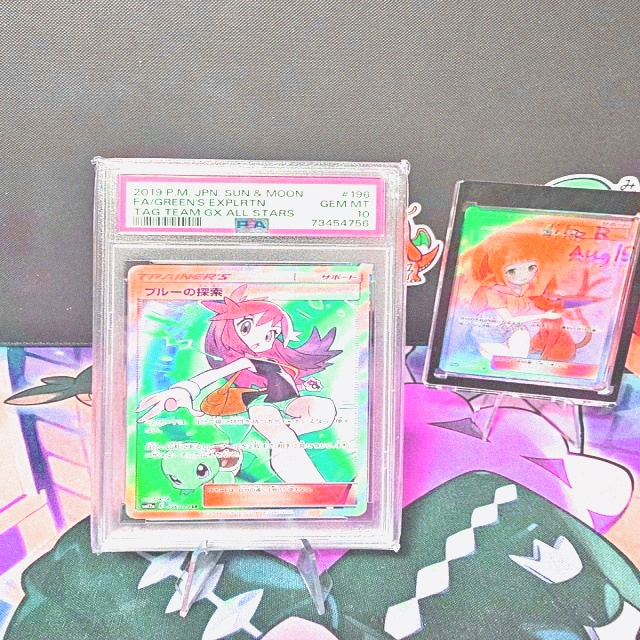card: (124, 264, 371, 520), (439, 205, 639, 386)
